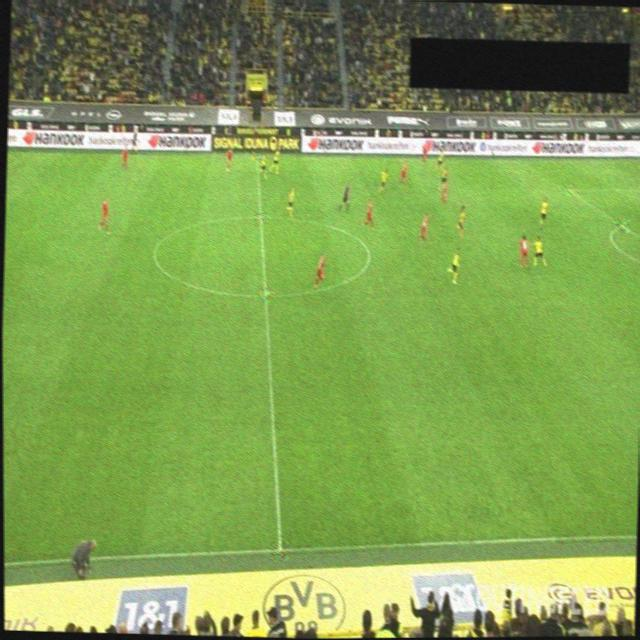bigarea_top_inner: (562, 182, 575, 195)
corner: (637, 155, 640, 166)
halfcircle_bottom: (258, 288, 272, 302)
halfcircle_top: (253, 210, 267, 224)
midline_bottom_intersection: (271, 540, 290, 560)
midline_top_intersection: (252, 148, 263, 160)
top_arc_area_intersection: (613, 216, 630, 233)
